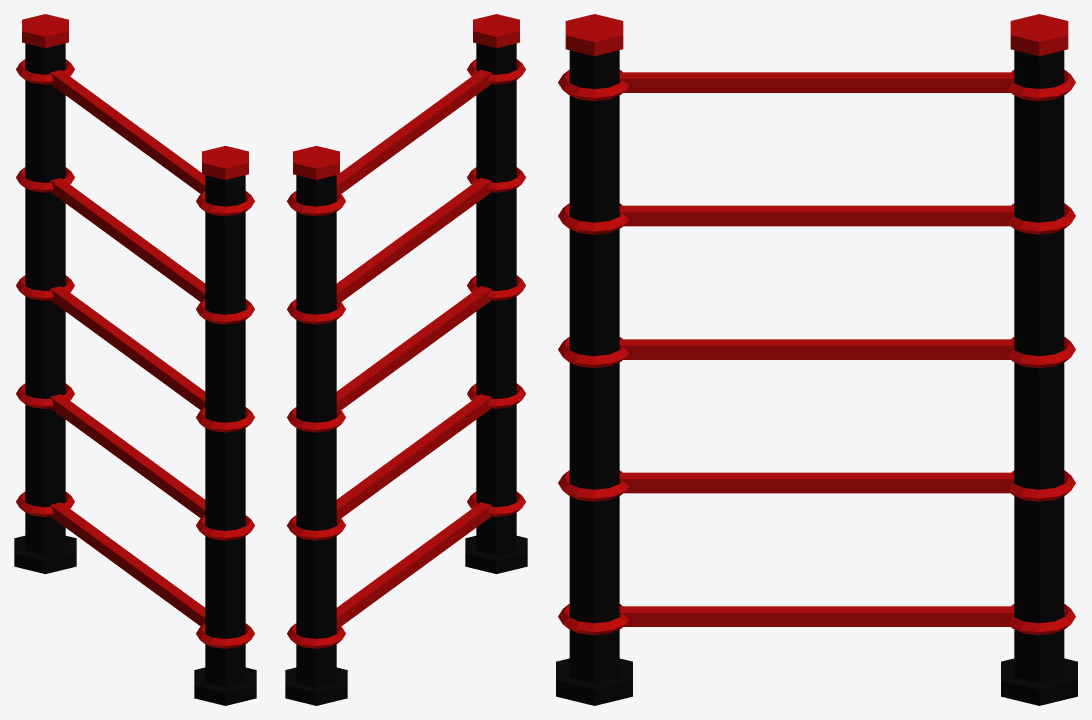
File: laser_wall.glb
3 renders of one model, left to right at view 1: azimuth 30°, elevation 25°; view 2: azimuth 150°, elevation 25°; view 3: azimuth 270°, elevation 25°, orthographic. The views are drawn at different scales.
Visible parts, largest first — view 1: LaserWall; view 2: LaserWall; view 3: LaserWall.
Boxes of the visible parts, x1,y1,x2,y2 form: LaserWall: (14, 14, 256, 705); LaserWall: (285, 14, 527, 705); LaserWall: (556, 14, 1077, 705).
Bounding box in the file's own units: 0.4 × 3.27 × 2.35.
